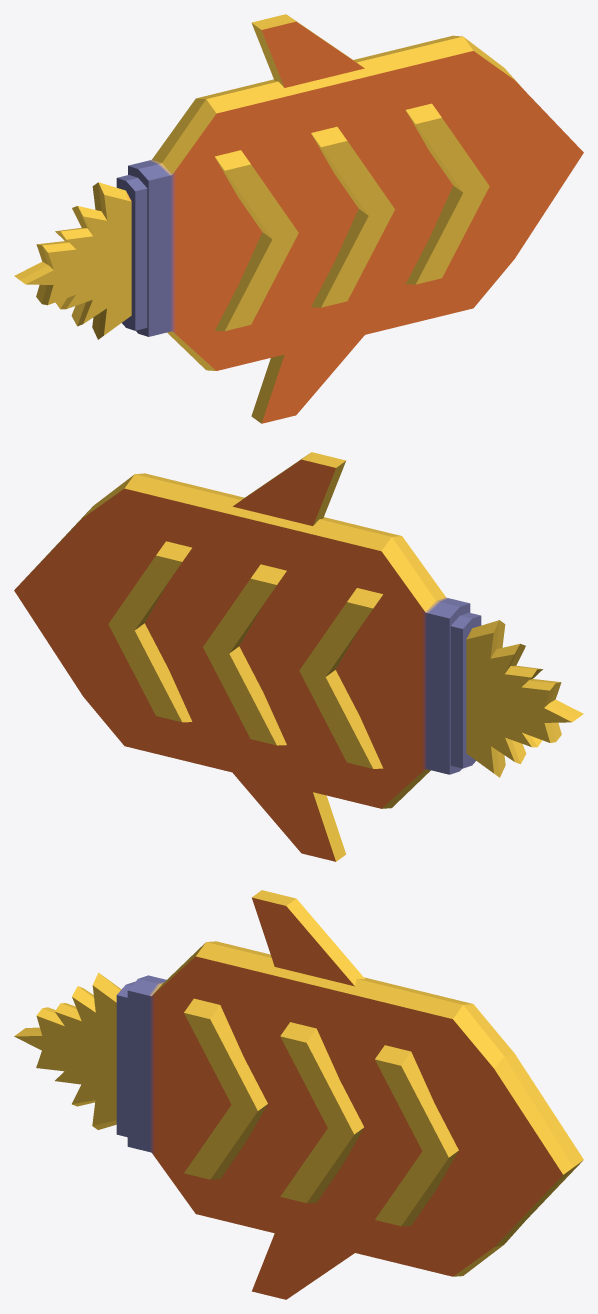
Rendered from fbbonus_speed.fbx.
3 renders of one model, top to bottom at view 1: azimuth 30°, elevation 25°; view 2: azimuth 150°, elevation 25°; view 3: azimuth 330°, elevation 25°, orthographic.
Visible parts, largest first — view 1: Plane; view 2: Plane; view 3: Plane.
Part boxes in pixels (left/top/right/bottom): Plane: left=14, top=14, right=583, bottom=423; Plane: left=14, top=452, right=583, bottom=861; Plane: left=14, top=890, right=583, bottom=1299.
Bounding box in the file's own units: 123 × 83.53 × 15.68.
